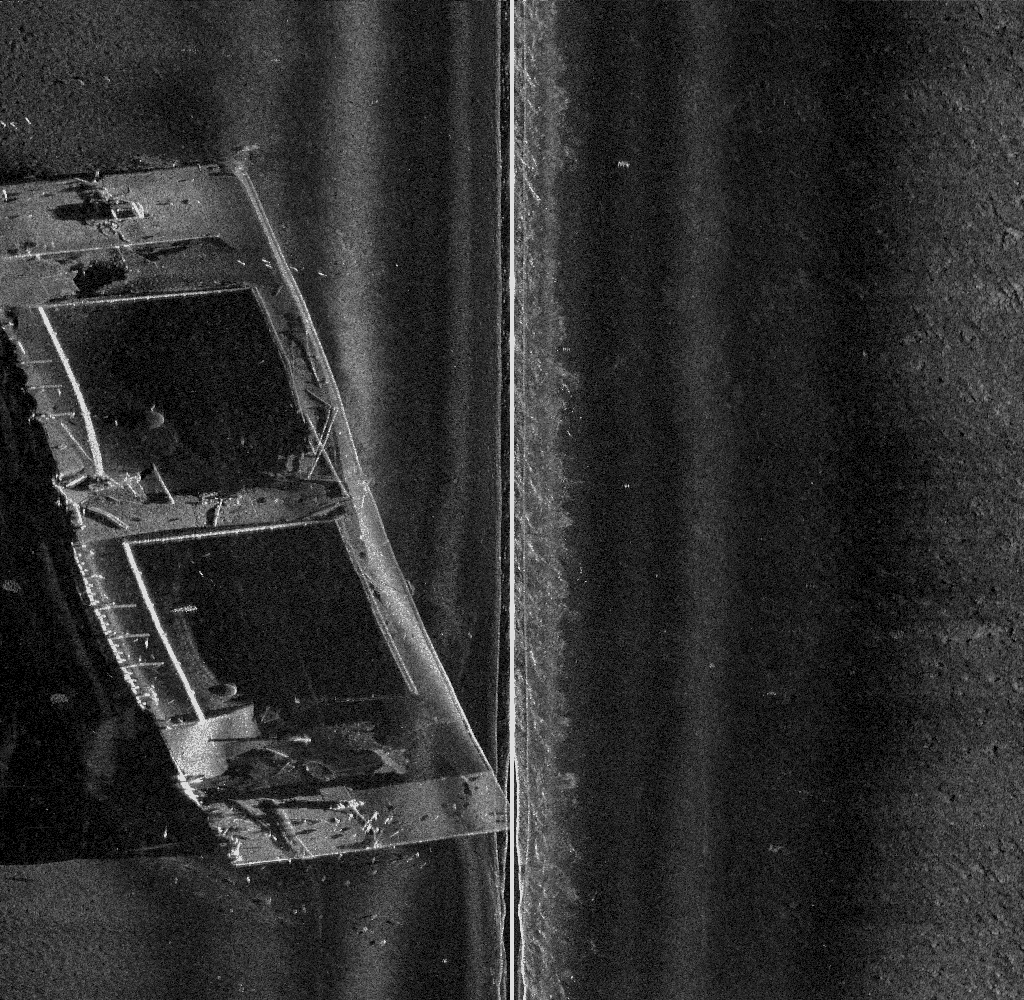ship: (2, 159, 513, 871)
